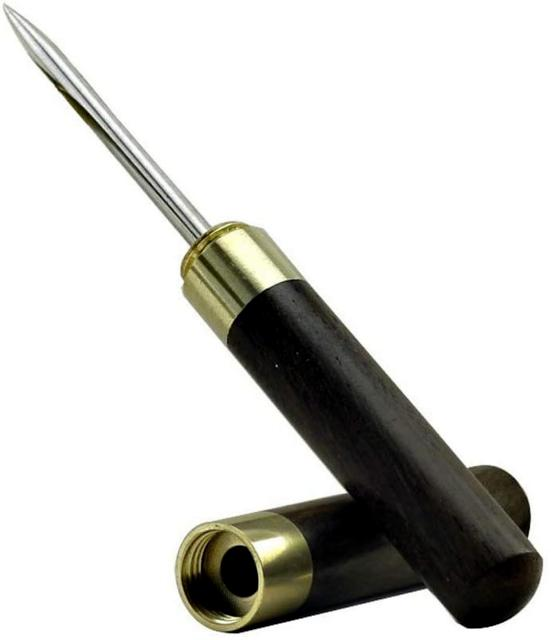ice pick: (1, 1, 544, 629)
